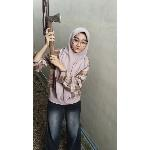Kapak: (45, 12, 64, 60)
